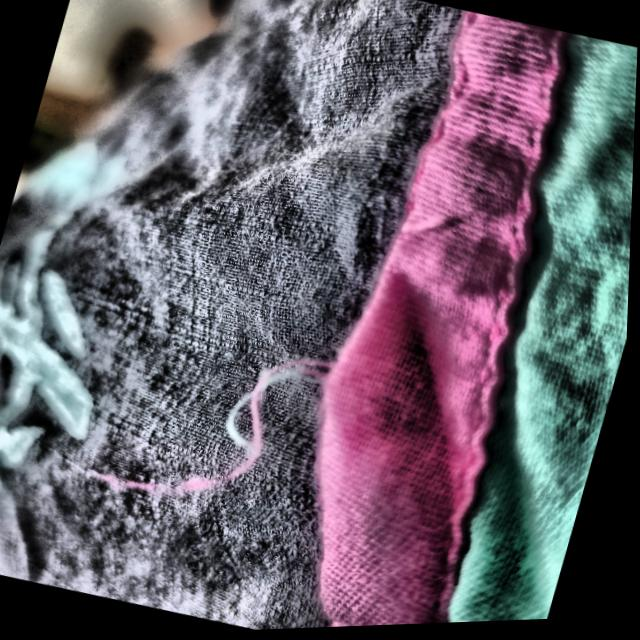Stitch: (42, 245, 408, 581)
